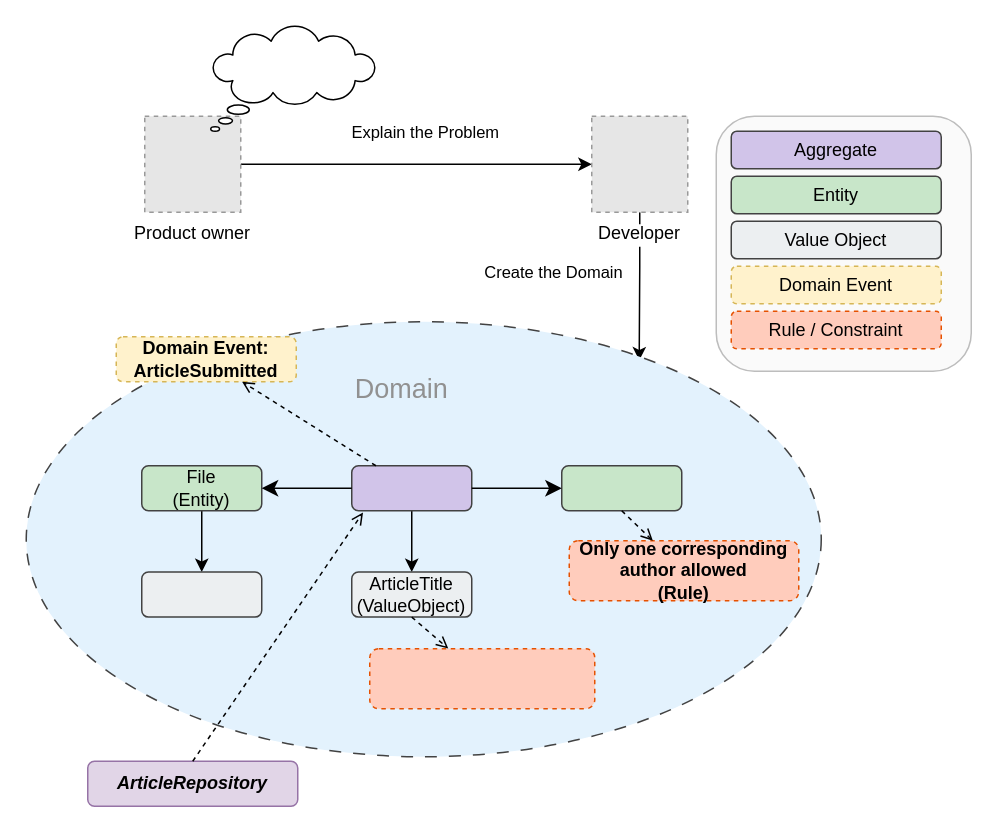
The diagram is 998 pixels wide and 833 high, and some of its shapes have lost their labels. Grey dashed boxes stand in for pictures. The shapes that lost their labels are listed below. From the top down, each one's centre as x and y in pixels, then its label:
At point 292,78: "Domain Problem/Wish".
At point 411,487: "Article (Aggregate)".
At point 621,487: "Contributor (Entity)".
At point 201,594: "FileName (ValueObject)".
At point 481,678: "Title must be unique within a Journal (Rule)".
